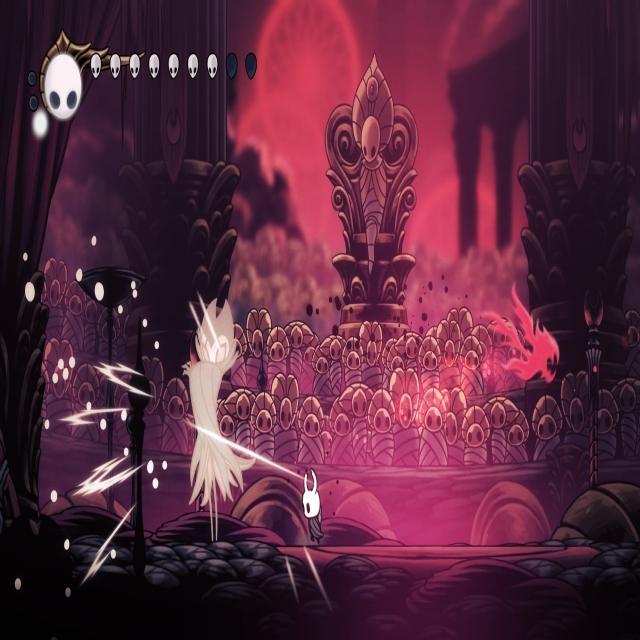Fire Bat: (487, 292, 563, 388)
Grimm: (182, 294, 256, 542)
Player: (300, 462, 327, 546)
